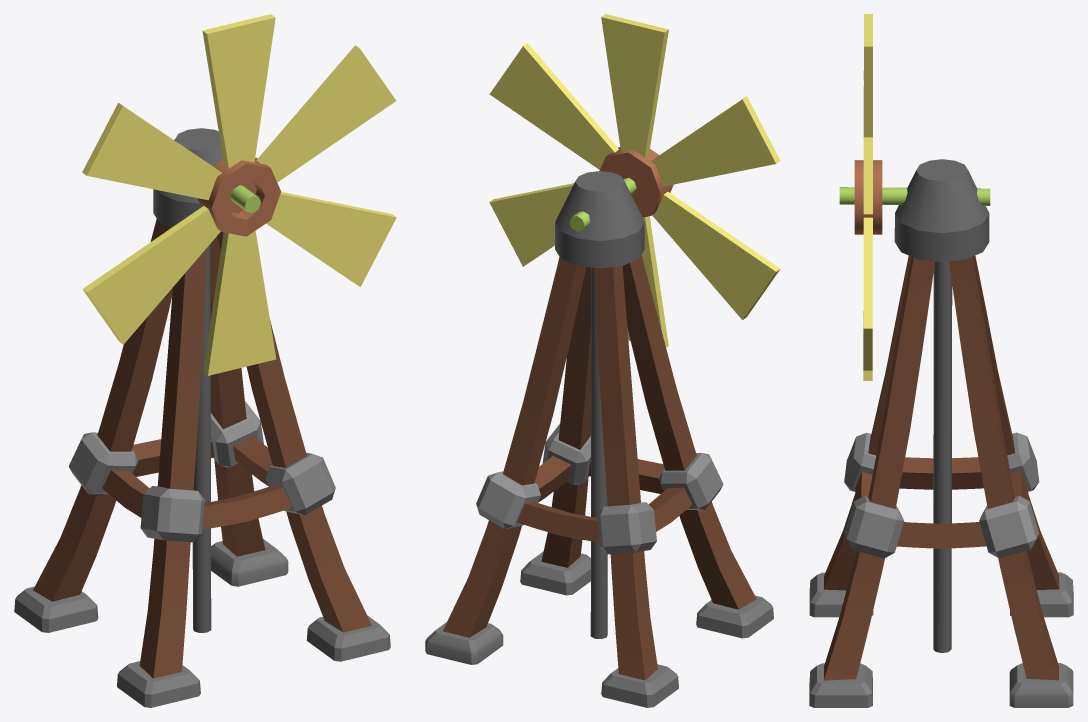
File: Mill.fbx
3 renders of one model, left to right at view 1: azimuth 30°, elevation 25°; view 2: azimuth 150°, elevation 25°; view 3: azimuth 270°, elevation 25°, orthographic. The views are drawn at different scales.
Visible parts, largest first — view 1: Cube.005; view 2: Cube.005; view 3: Cube.005.
Part boxes in pixels (x1,y1,x2,y2): Cube.005: (14,14,396,707); Cube.005: (425,14,780,707); Cube.005: (809,14,1073,707).
Bounding box in the file's own units: 501 × 979 × 379.
